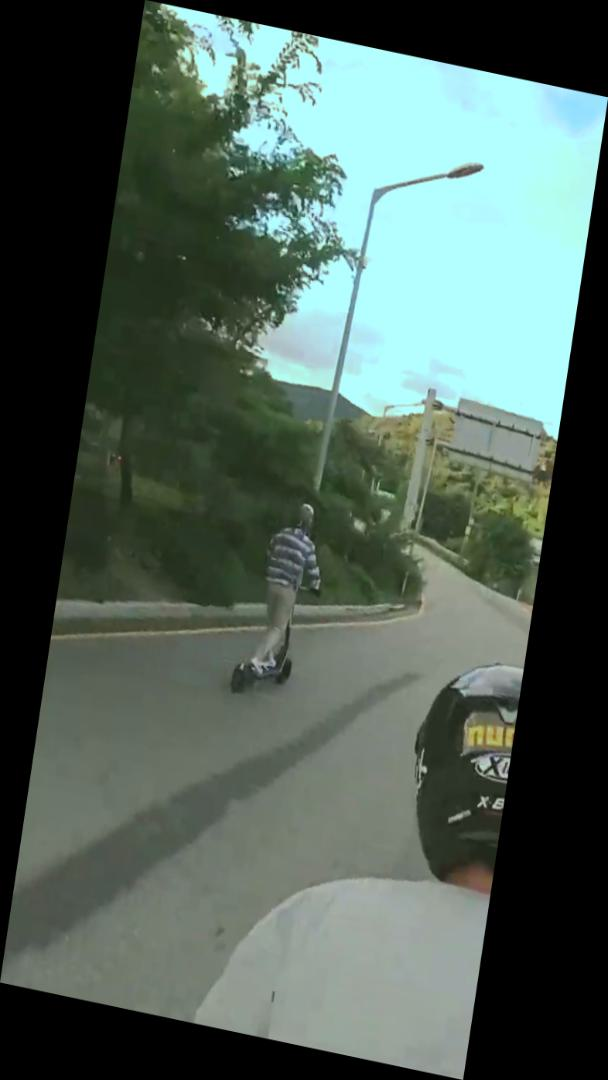helmet: (224, 489, 338, 713)
